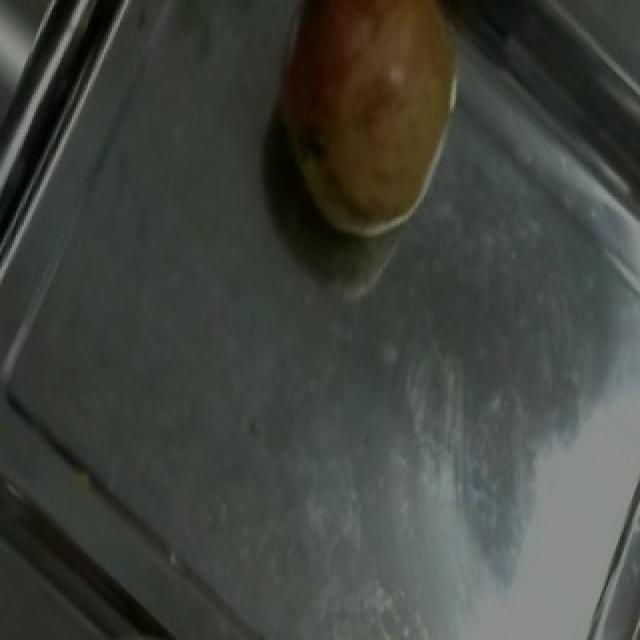fruit: (240, 0, 500, 256)
